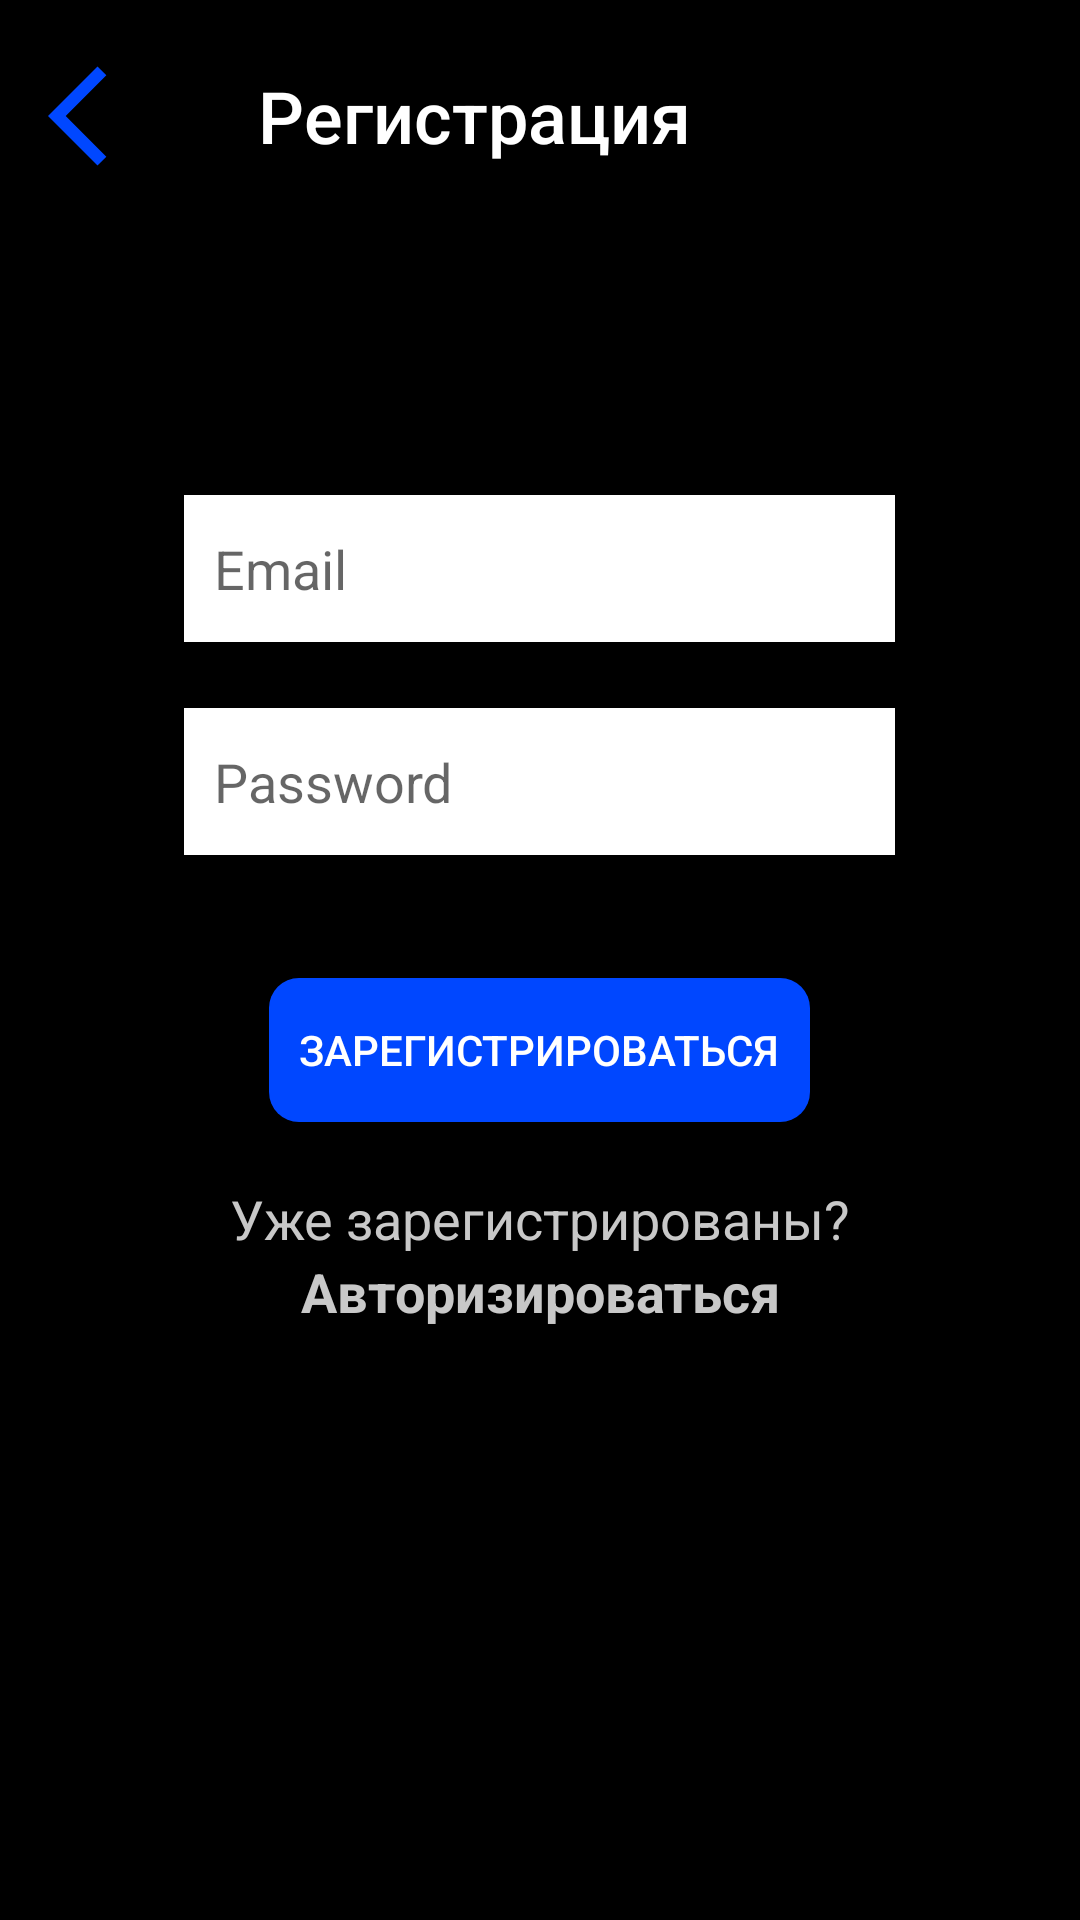

Icons on this 1080x1920 Android screen, each with its box as (x1, y1, x2, y2):
arrow back: (48, 66, 107, 166)
